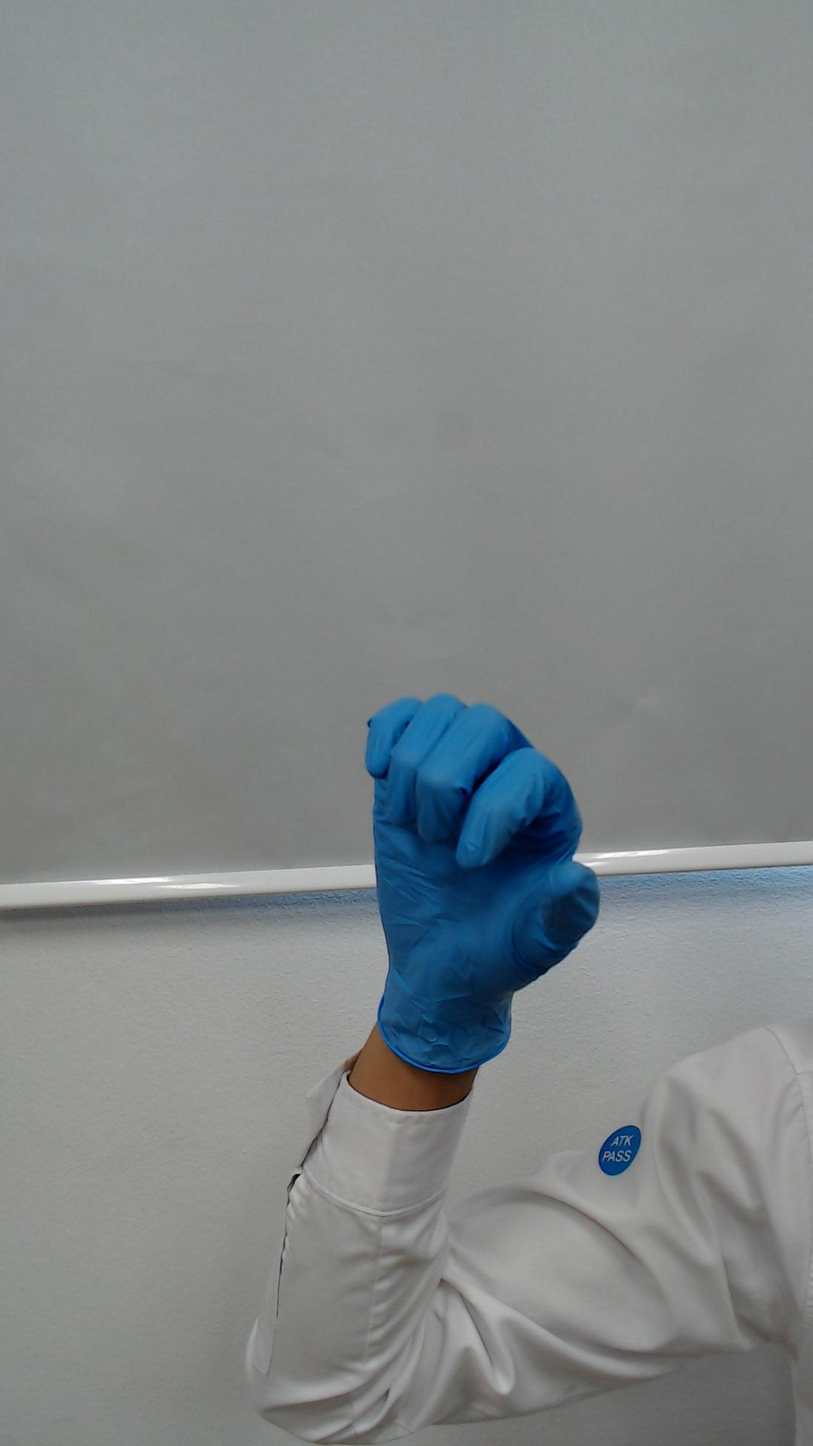gloves: (342, 658, 639, 1001)
